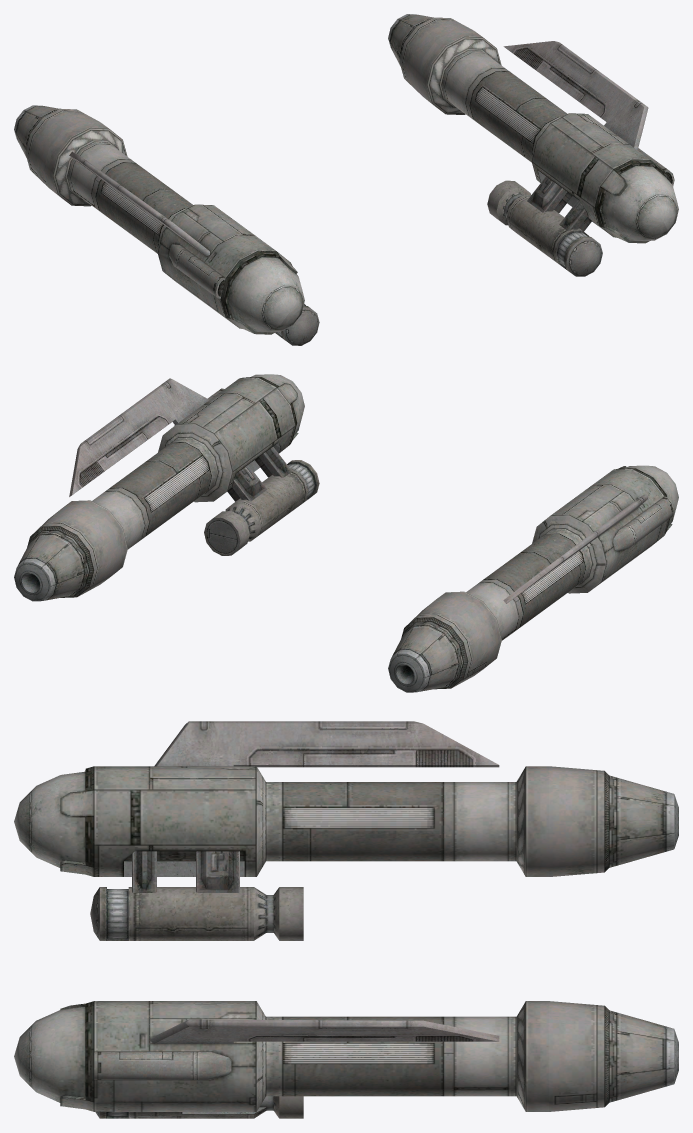
File: ywing_engine_s02_l0.fbx
3 renders of one model, top to bottom at view 1: azimuth 30°, elevation 25°; view 2: azimuth 150°, elevation 25°; view 3: azimuth 270°, elevation 25°, orthographic. The views are drawn at different scales.
Parts seen in each view (by area): view 1: mesh_node; view 2: mesh_node; view 3: mesh_node.
Boxes of the visible parts, x1,y1,x2,y2 form: mesh_node: [14, 14, 678, 345]; mesh_node: [14, 374, 678, 692]; mesh_node: [14, 721, 678, 1118].
Bounding box in the file's own units: 14.31 × 3.47 × 13.34.
